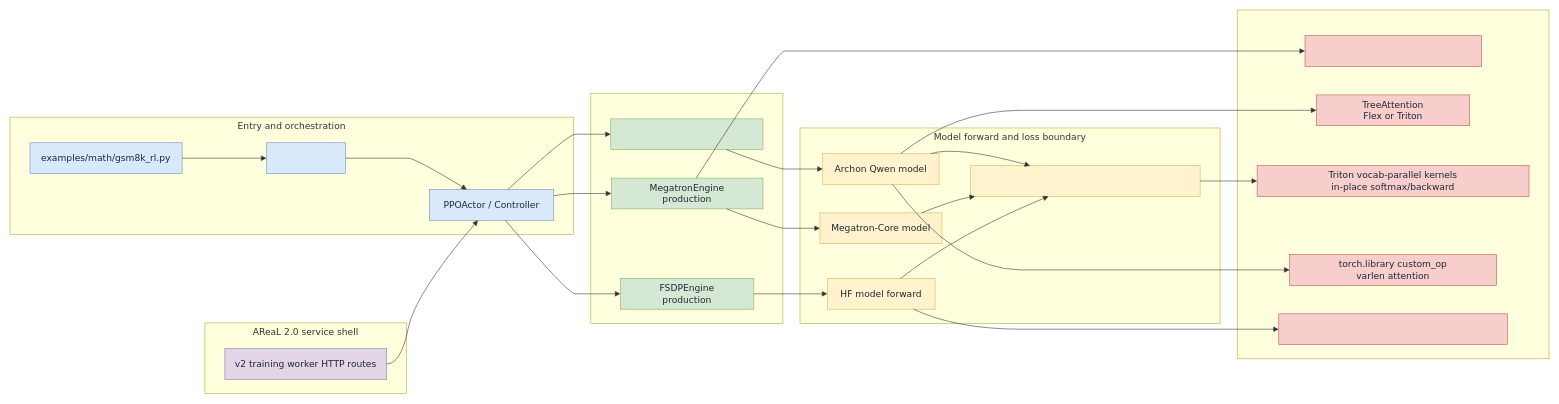
The diagram is 1559 pixels wide and 404 high, and some of its shapes have lost their labels. Here are the shapes that lost their labels. From the top down, the box of each, then its label:
(1304, 35, 1482, 66): Megatron FP8 Triton / DeepGEMM
(610, 118, 763, 150): ArchonEngine experimental
(266, 142, 346, 174): PPOTrainer
(970, 165, 1200, 196): gather_logprobs(_entropy) TP-aware loss stats
(1237, 9, 1549, 359): Operator integration paths
(590, 93, 783, 323): Training engines
(1278, 313, 1507, 345): HF attention backend attn_impl / use_kernels
